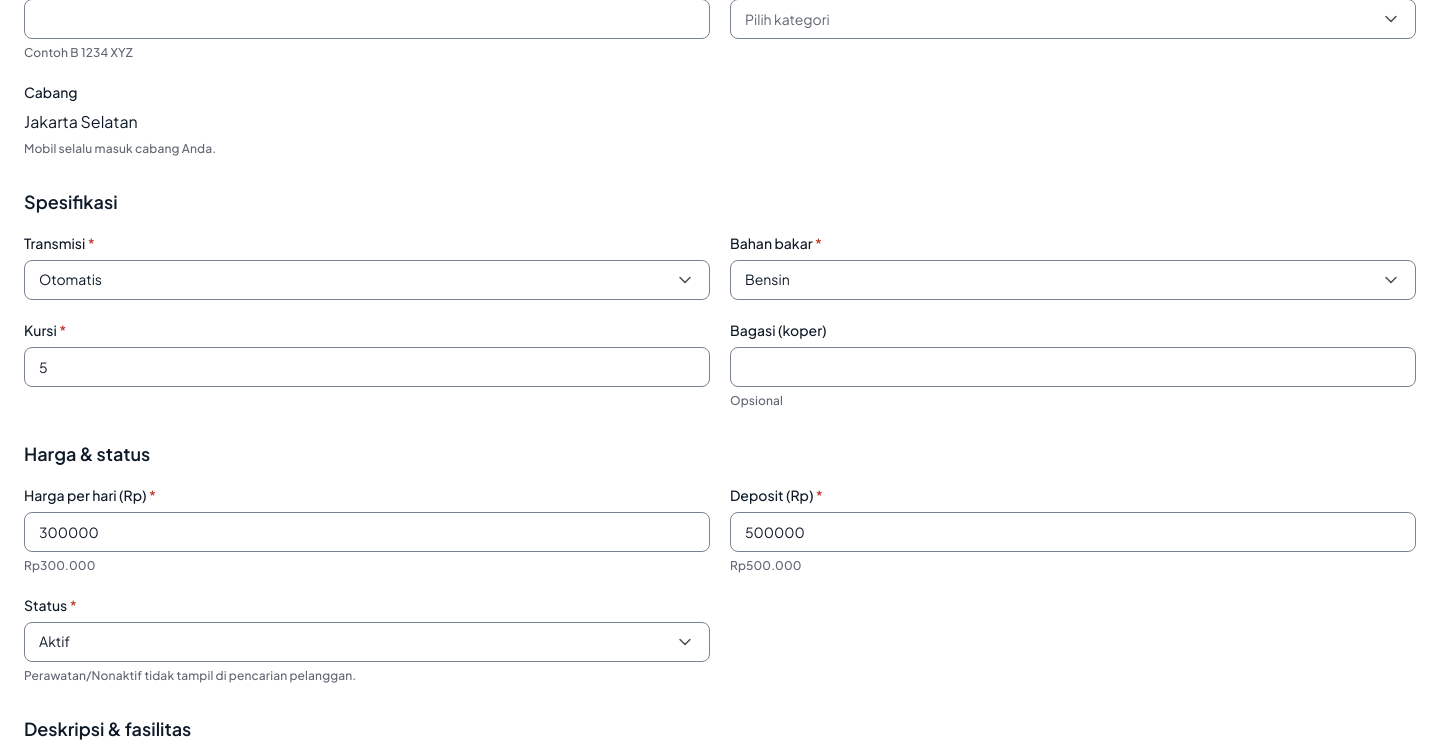
Test case: CarEditor — create › validates on the client without sending
The width and height of the screenshot is (1440, 755).
(page scrolled)
Replace the text in the number field labelled "Kursi *" with "20" at point(367, 367), box top-left (24, 347), bottom-right (710, 387)
(page scrolled)
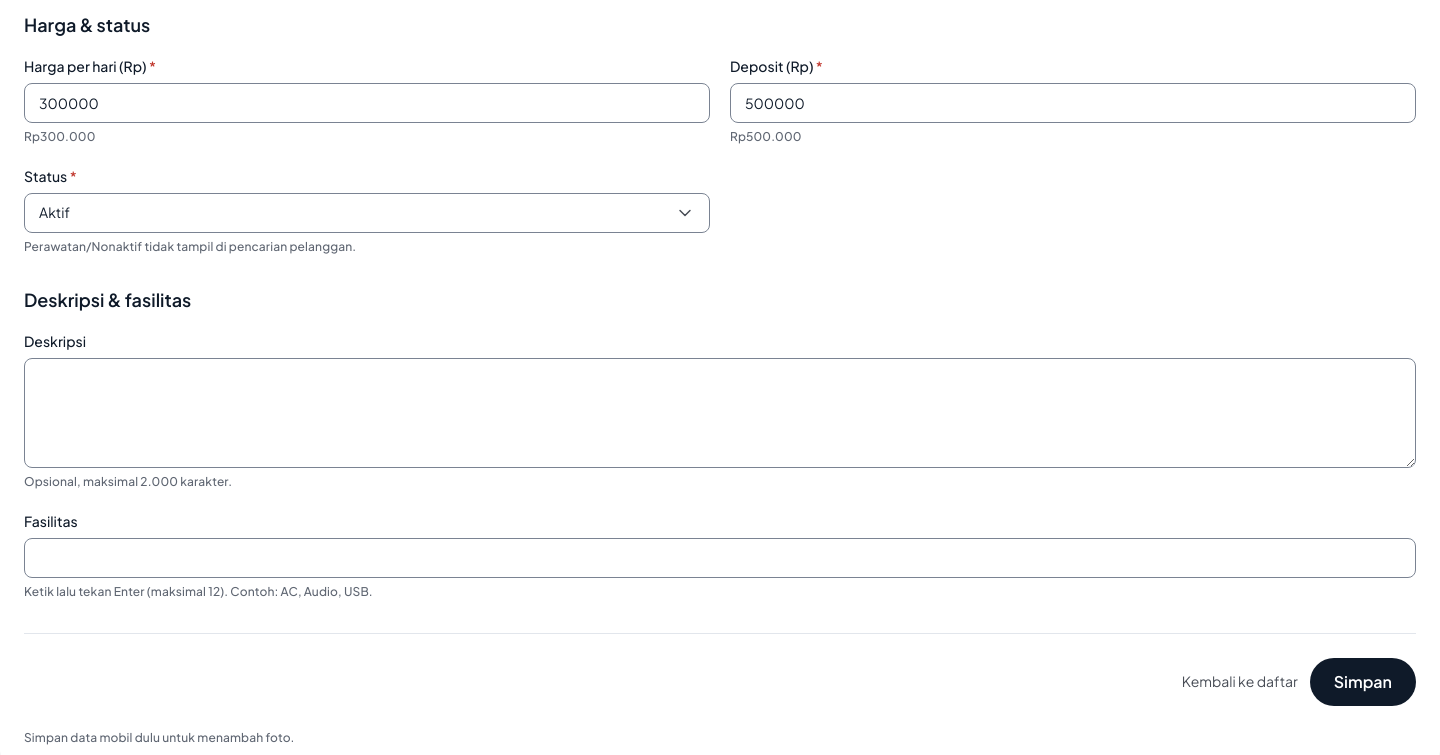
Click the button "Simpan" at point(1363, 682), box top-left (1310, 658), bottom-right (1416, 706)
(page scrolled)
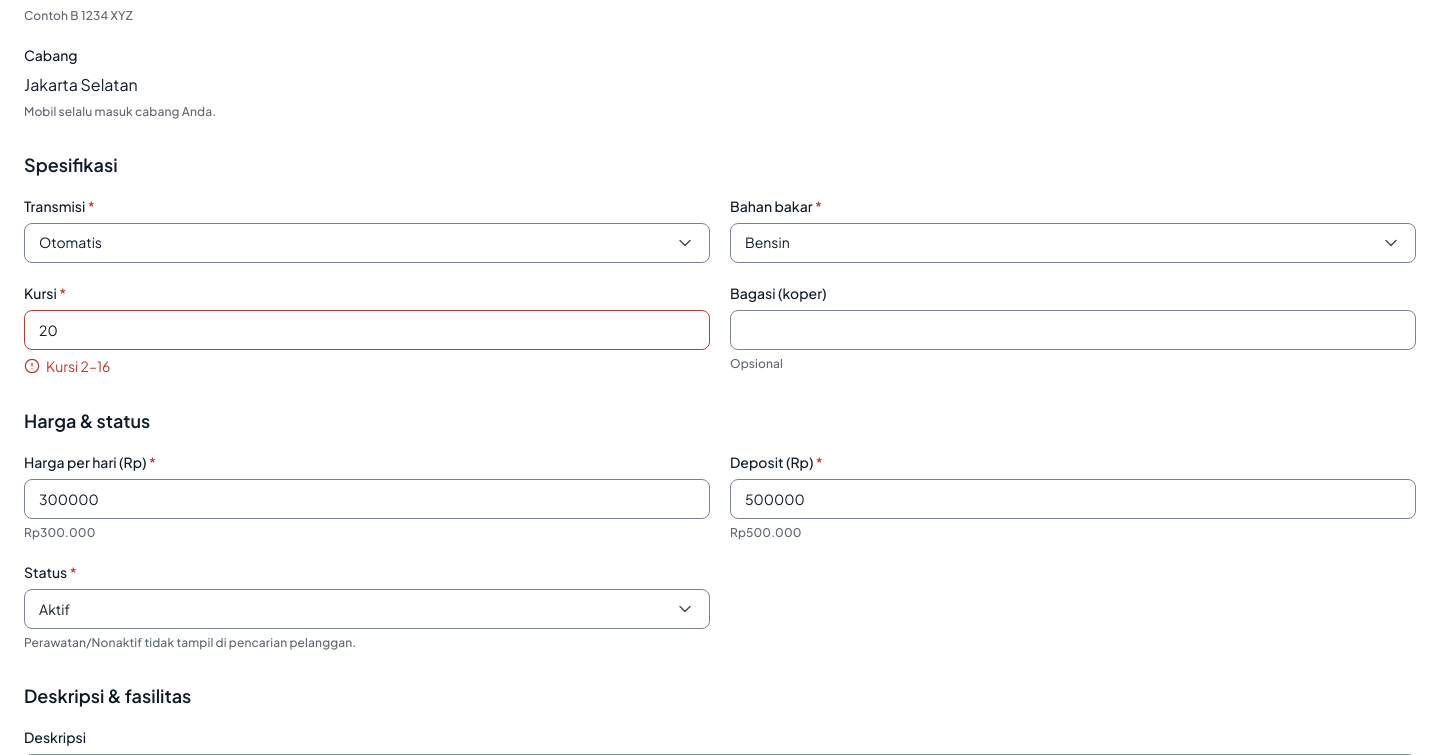
Check: the text "Kursi 2–16" is shown, box top-left (24, 357), bottom-right (110, 375)
